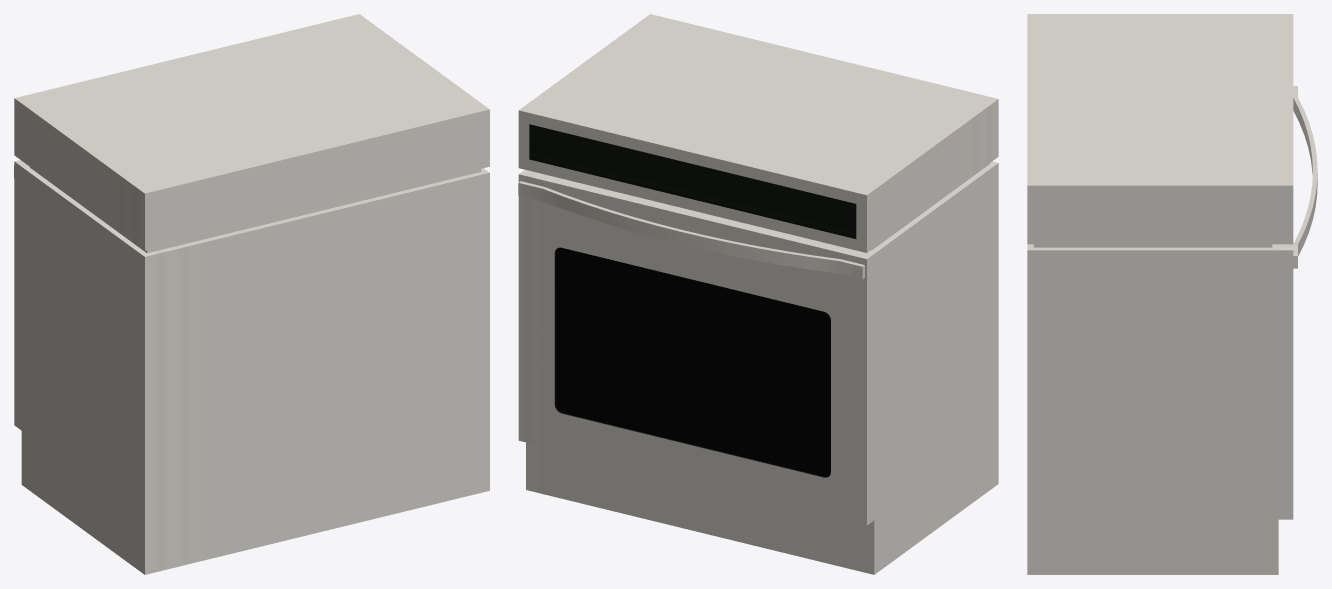
The model's file is KitchenOven05.glb.
3 views of the same model, side by side, from view 1: azimuth 30°, elevation 25°; view 2: azimuth 150°, elevation 25°; view 3: azimuth 270°, elevation 25° (orthographic). The views are drawn at different scales.
Visible parts, largest first — view 1: KitchenOven05_model, KitchenOven05_Door01; view 2: KitchenOven05_model, KitchenOven05_Door01, KitchenOven05_Glass; view 3: KitchenOven05_model, KitchenOven05_Door01.
Boxes of the visible parts, x1=… form: KitchenOven05_model: x1=14, y1=14, x2=489, y2=574; KitchenOven05_Door01: x1=14, y1=160, x2=27, y2=430; KitchenOven05_model: x1=518, y1=14, x2=998, y2=574; KitchenOven05_Door01: x1=518, y1=169, x2=874, y2=525; KitchenOven05_Glass: x1=555, y1=247, x2=830, y2=477; KitchenOven05_model: x1=1027, y1=14, x2=1293, y2=574; KitchenOven05_Door01: x1=1278, y1=86, x2=1317, y2=519.
Size of the model in its own units: 1.45 by 1.53 by 1.04.
2 materials, 1 textured.
